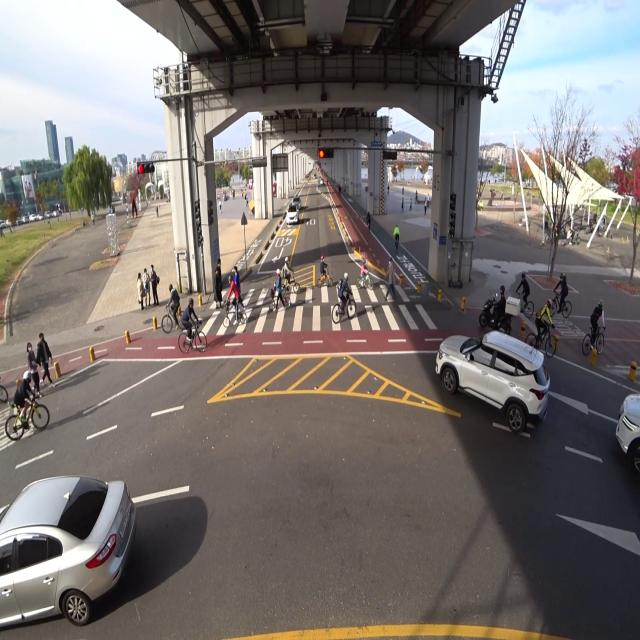Car: (0, 441, 151, 640), (428, 314, 550, 441), (602, 370, 640, 494), (282, 205, 300, 226), (291, 190, 301, 213)
Motorcycle: (477, 282, 522, 337)
